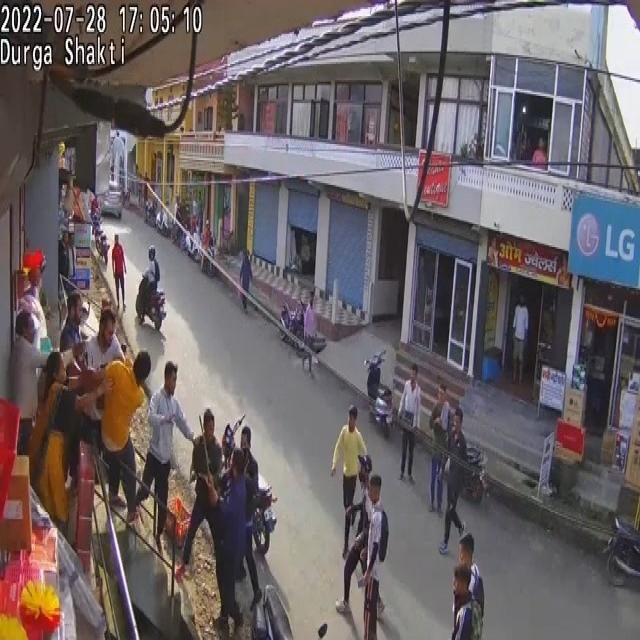fight: (30, 353, 109, 526), (195, 453, 257, 635), (138, 360, 195, 544), (93, 350, 151, 526), (53, 309, 94, 534), (176, 408, 223, 579), (12, 314, 44, 454)
non-fight: (338, 470, 388, 617), (331, 404, 368, 556), (437, 412, 469, 554), (427, 384, 452, 512), (397, 364, 422, 483), (450, 557, 482, 639), (512, 294, 529, 383), (140, 244, 160, 310), (111, 235, 127, 311), (304, 295, 318, 359), (239, 248, 253, 311), (201, 222, 213, 274)
